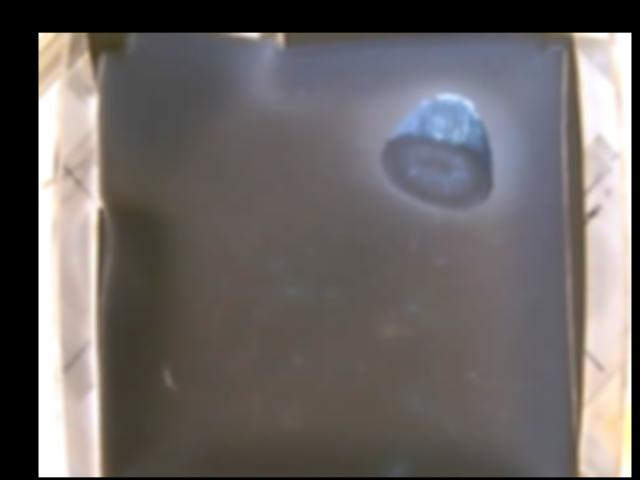Mooli: (380, 95, 494, 212)
